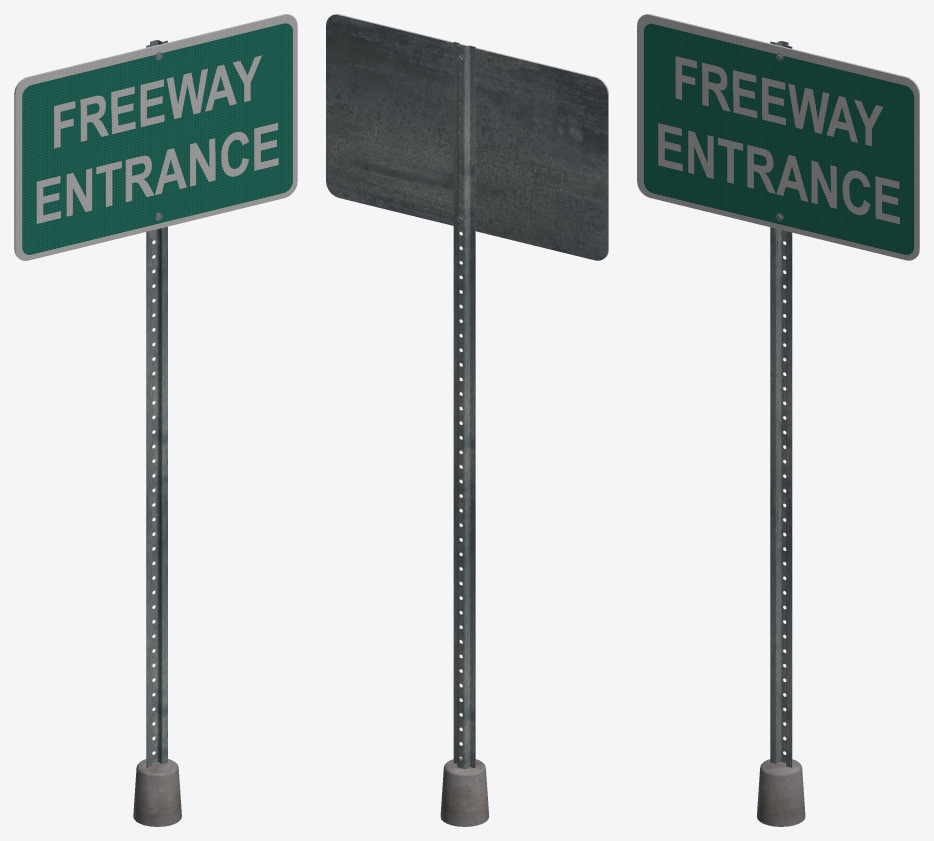
Rendered from freewayentrance_nsoc.obj.
The picture shows the model from 3 angles, left to right: view 1: azimuth 30°, elevation 25°; view 2: azimuth 150°, elevation 25°; view 3: azimuth 330°, elevation 25°; orthographic projection.
Parts seen in each view (by area): view 1: sign_freeway_entrance; view 2: sign_freeway_entrance; view 3: sign_freeway_entrance.
Boxes of the visible parts, x1,y1,x2,y2 form: sign_freeway_entrance: (14,14,297,826); sign_freeway_entrance: (326,14,608,826); sign_freeway_entrance: (637,14,919,826).
Size of the model in its own units: 39.06 by 102 by 5.84.
3 materials, 3 textured.
